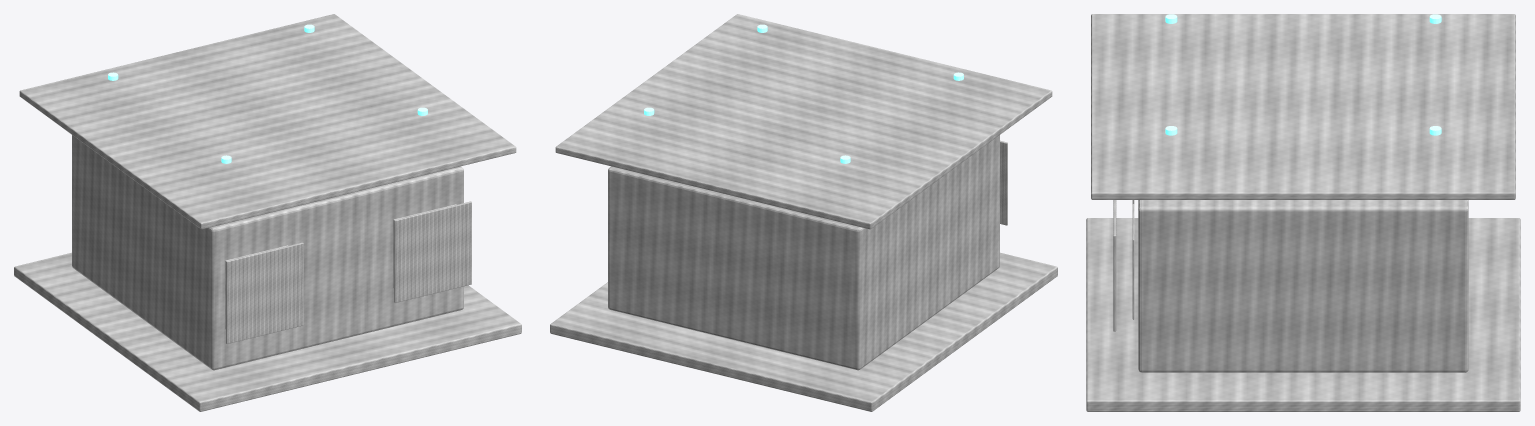
The model's file is drone-port_variant_c.glb.
3 views of the same model, side by side, from view 1: azimuth 30°, elevation 25°; view 2: azimuth 150°, elevation 25°; view 3: azimuth 270°, elevation 25° (orthographic). The views are drawn at different scales.
Visible parts, largest first — view 1: Landing deck.002, Main structural housing.002, Foundation.002, Protective frame.005, Protective frame.004; view 2: Landing deck.002, Main structural housing.002, Foundation.002, Protective frame.004; view 3: Landing deck.002, Main structural housing.002, Foundation.002, Protective frame.005.
Boxes of the visible parts, box(x1,y1,x2,y2) form: Landing deck.002: box(19, 14, 516, 229); Main structural housing.002: box(72, 135, 463, 370); Foundation.002: box(14, 252, 521, 411); Protective frame.005: box(394, 201, 471, 302); Protective frame.004: box(226, 242, 303, 343); Landing deck.002: box(555, 14, 1052, 229); Main structural housing.002: box(608, 135, 999, 370); Foundation.002: box(550, 252, 1057, 411); Protective frame.004: box(1000, 140, 1007, 225); Landing deck.002: box(1091, 14, 1515, 199); Main structural housing.002: box(1138, 200, 1468, 372); Foundation.002: box(1086, 218, 1520, 411); Protective frame.005: box(1113, 200, 1116, 331).
Size of what is drawn, in the model's own units: 14.72 by 9.29 by 14.72.
6 materials, 6 textured.
